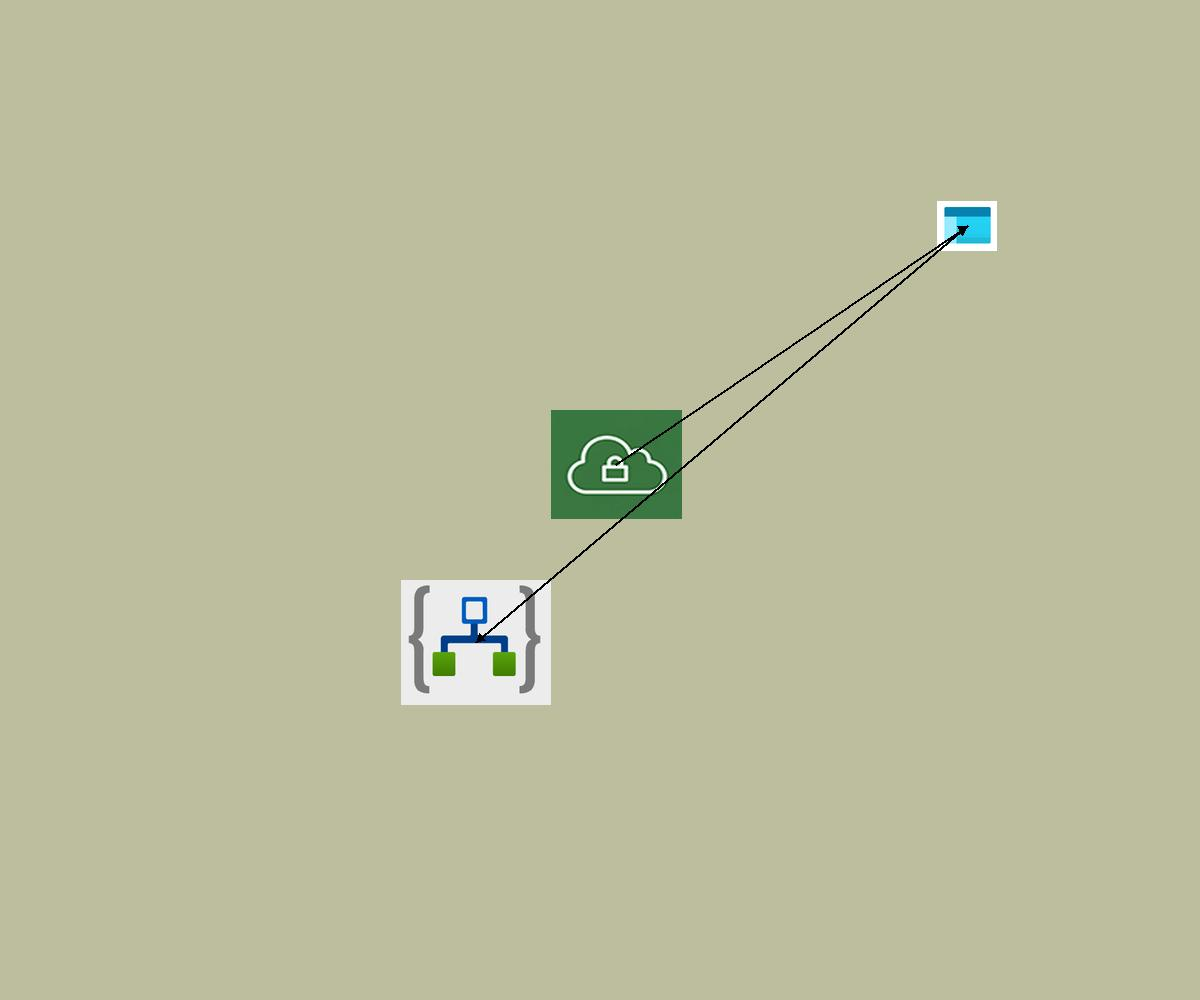AWS-Private_vpc: (551, 410, 682, 519)
Azure_integration-204-Logic-Apps: (401, 580, 551, 705)
Azure_management-portal: (937, 201, 997, 251)
